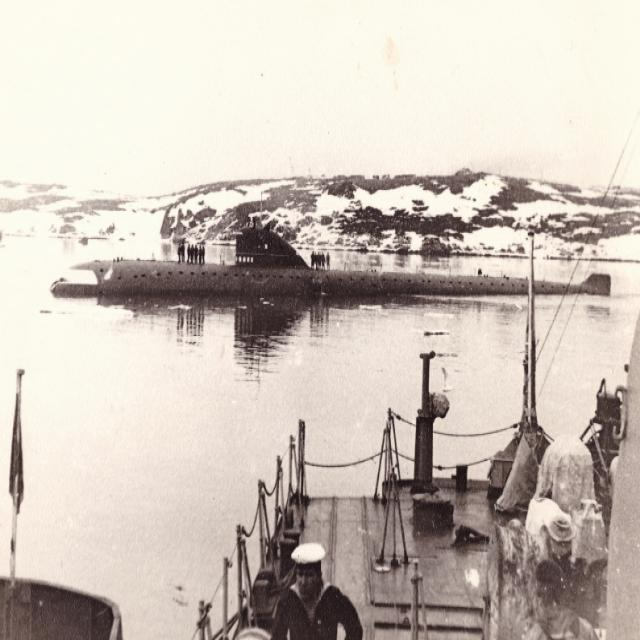submarine: (54, 227, 619, 303)
